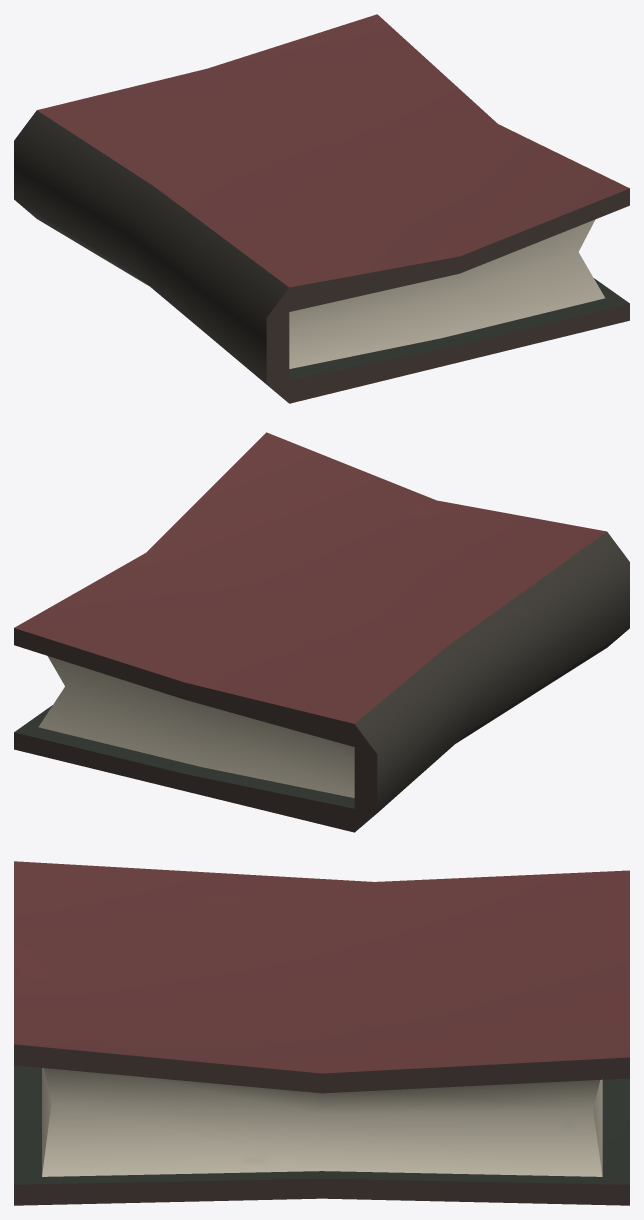
The picture shows the model from 3 angles, top to bottom: view 1: azimuth 30°, elevation 25°; view 2: azimuth 150°, elevation 25°; view 3: azimuth 270°, elevation 25°; orthographic projection. The views are drawn at different scales.
Parts seen in each view (by area): view 1: book_1.015; view 2: book_1.015; view 3: book_1.015.
Part boxes in pixels (left/top/right/bottom): book_1.015: left=14, top=14, right=629, bottom=403; book_1.015: left=14, top=432, right=629, bottom=832; book_1.015: left=14, top=861, right=629, bottom=1205.
Size of the model in its own units: 0.347 by 0.1207 by 0.4177.
1 material, 1 textured.
